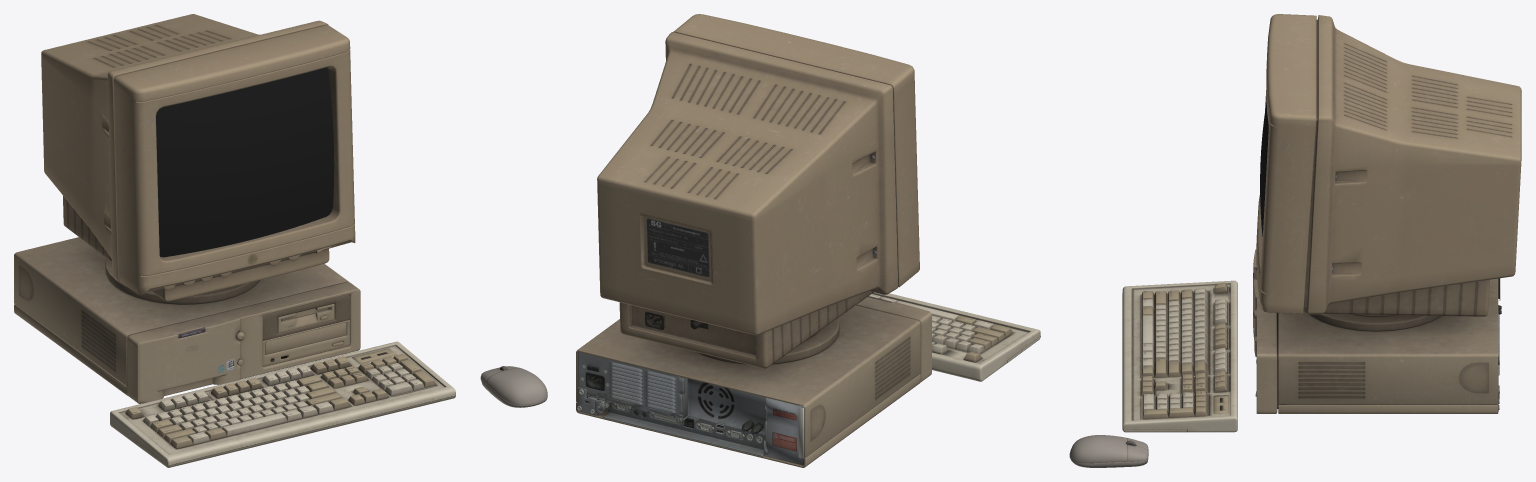
The picture shows the model from 3 angles, left to right: view 1: azimuth 30°, elevation 25°; view 2: azimuth 150°, elevation 25°; view 3: azimuth 270°, elevation 25°; orthographic projection. The views are drawn at different scales.
Visible parts, largest first — view 1: pc, glass; view 2: pc; view 3: pc, glass.
Boxes of the visible parts, left/top/right/bottom form: pc: left=14, top=14, right=547, bottom=467; glass: left=156, top=67, right=334, bottom=257; pc: left=576, top=14, right=1040, bottom=467; pc: left=1069, top=14, right=1521, bottom=467; glass: left=1260, top=102, right=1268, bottom=236.
Size of the model in its own units: 0.6101 by 0.5049 by 0.6757.
6 materials, 5 textured.
